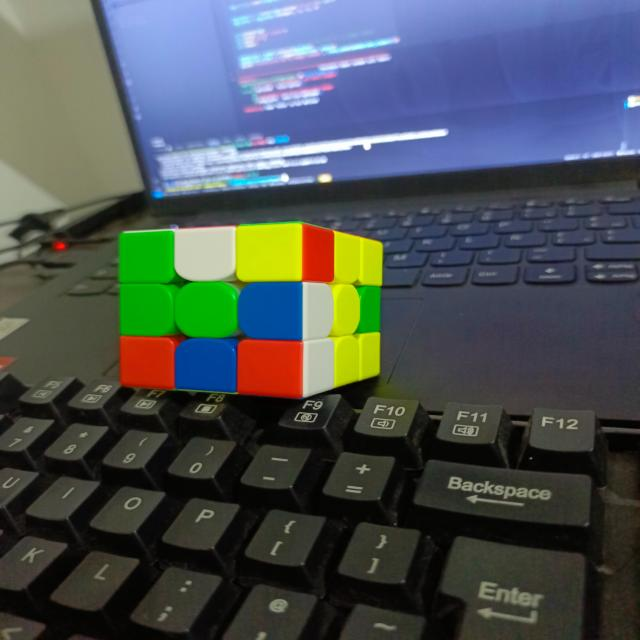rubik: (115, 220, 385, 399)
